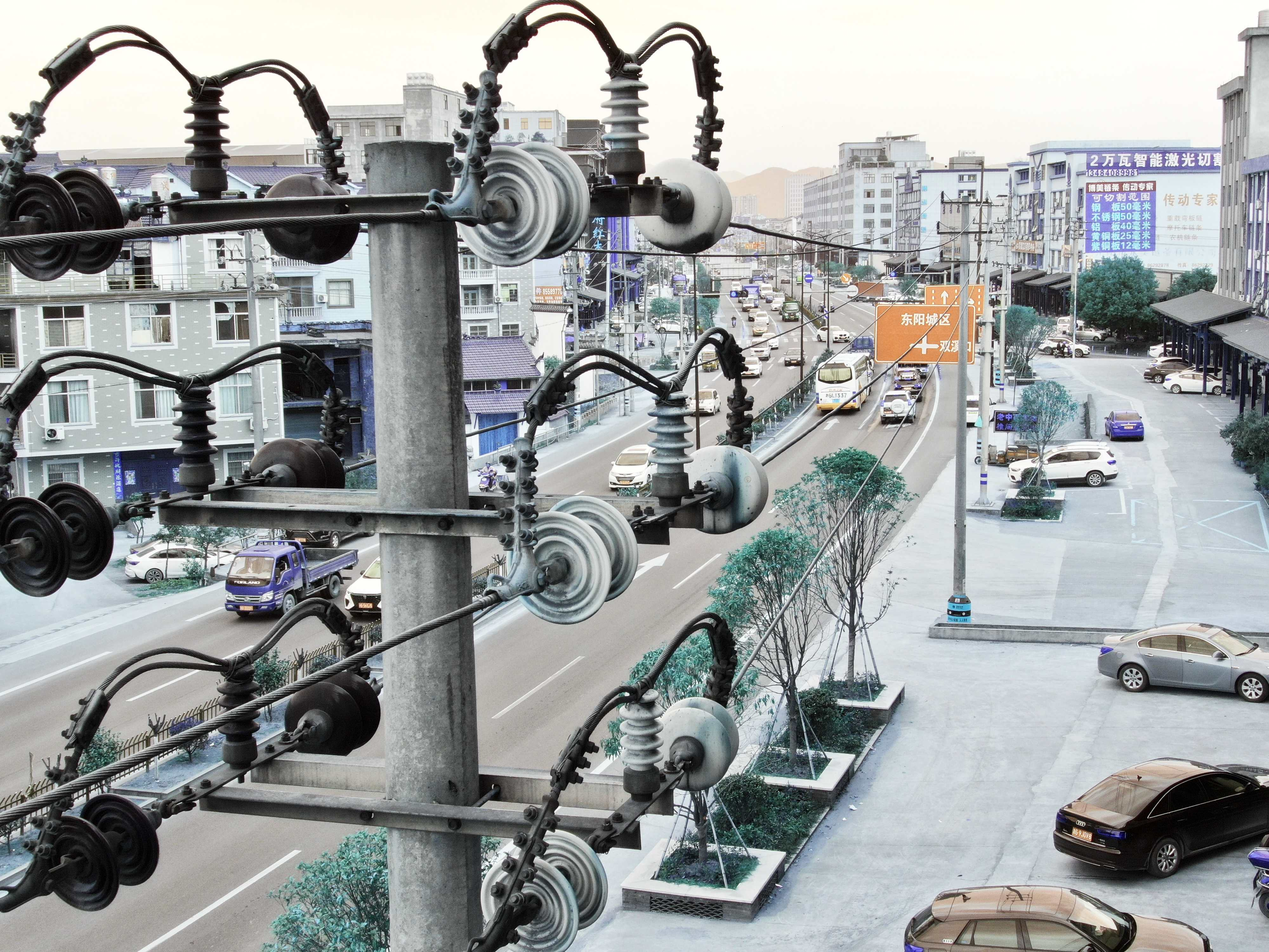severe_soiling_no_discharge_whole: (502, 486, 643, 630), (446, 136, 595, 272), (475, 821, 611, 951), (623, 146, 737, 254), (650, 688, 746, 793), (678, 437, 768, 536), (644, 384, 700, 502), (616, 679, 667, 803)
